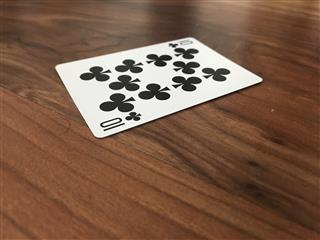TenOfClubs: (54, 36, 263, 138)
